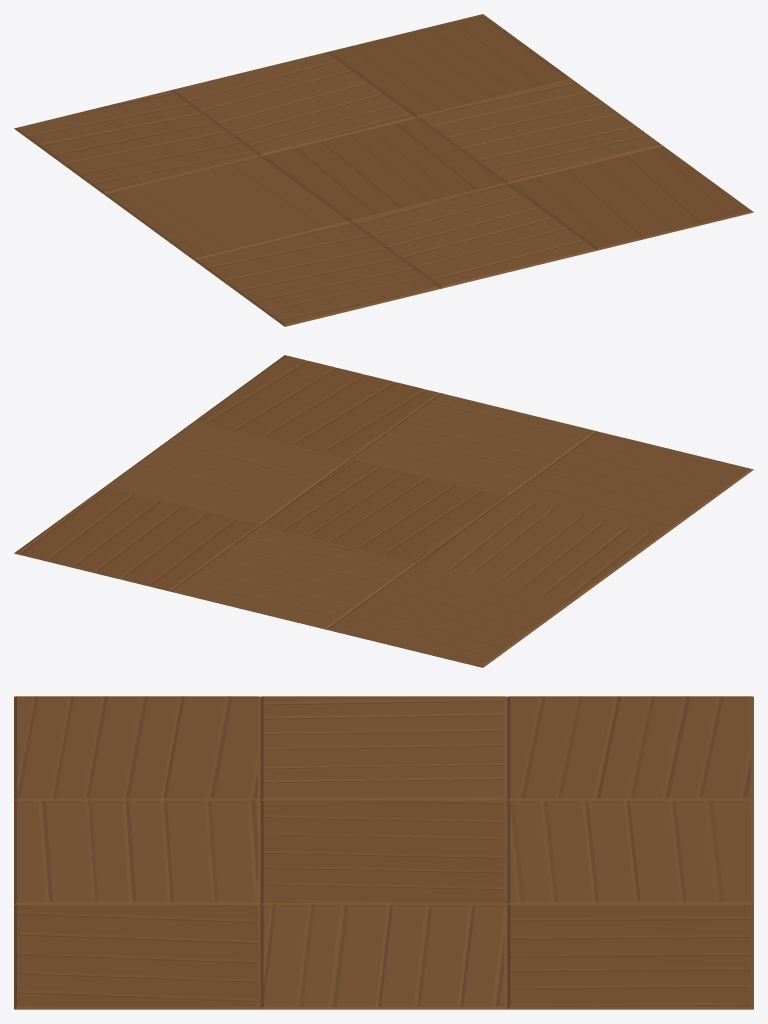
File: Wood_Floor_Module_00_01.glb
3 views of the same model, one above another, from view 1: azimuth 30°, elevation 25°; view 2: azimuth 150°, elevation 25°; view 3: azimuth 270°, elevation 25° (orthographic). The views are drawn at different scales.
Visible parts, largest first — view 1: Wood_Floor_Module_00_01; view 2: Wood_Floor_Module_00_01; view 3: Wood_Floor_Module_00_01.
Boxes of the visible parts, x1,y1,x2,y2 form: Wood_Floor_Module_00_01: (14,14,753,326); Wood_Floor_Module_00_01: (14,355,753,667); Wood_Floor_Module_00_01: (14,696,753,1009).
Bounding box in the file's own units: 4.74 × 0.012 × 4.74.
